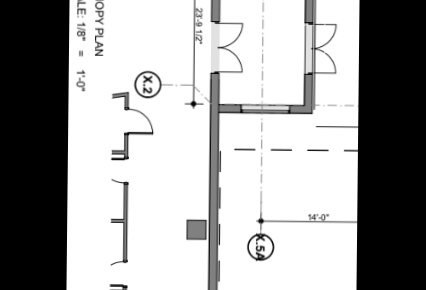door: (302, 0, 317, 24)
double door: (214, 21, 245, 74), (310, 21, 339, 75)
wall: (206, 70, 222, 290), (121, 181, 131, 266), (302, 74, 315, 116), (218, 100, 243, 116), (287, 103, 315, 116), (209, 0, 222, 25), (109, 89, 129, 101), (109, 216, 125, 227), (123, 134, 130, 158), (122, 90, 131, 108), (110, 150, 126, 157), (119, 287, 130, 290), (106, 289, 123, 290)
window: (125, 106, 155, 138), (239, 101, 290, 119)
